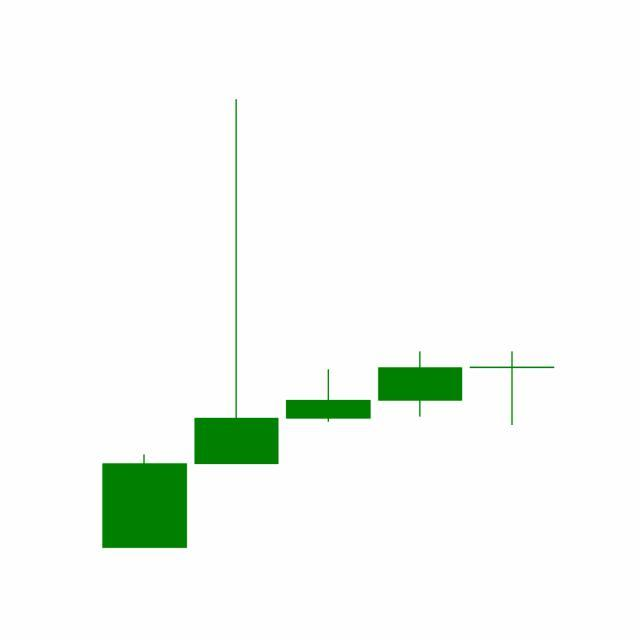Hanging Man: (466, 351, 559, 428)
